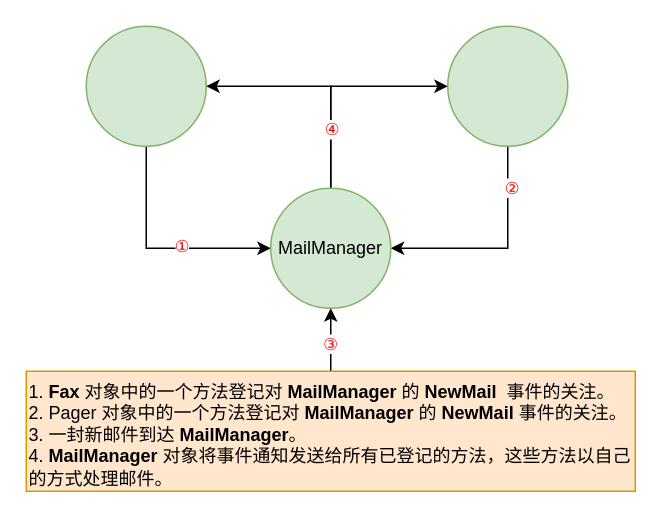
Image size: 662x518. Some labels were removed from this diagram. Here are the shapes that lost their labels. From the top down, the centre of each, then its label:
(x=145, y=85): Fax #1
(x=507, y=85): Pager #1
